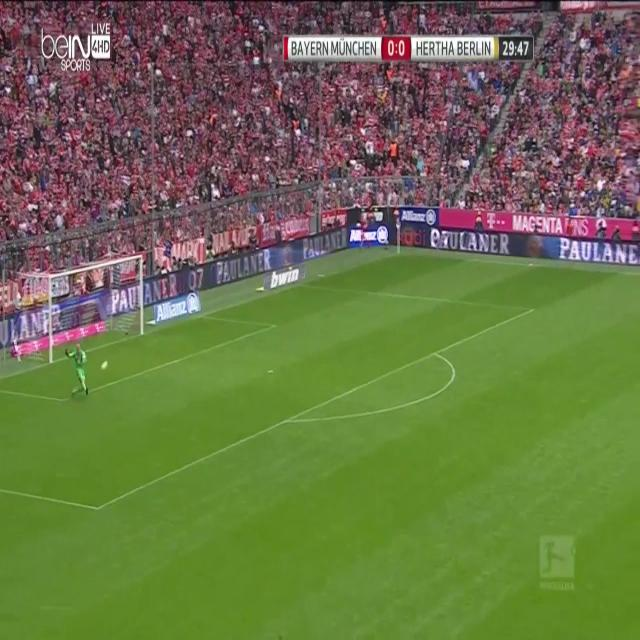Ball: (99, 357, 108, 375)
Goalkeeper: (64, 338, 91, 398)
